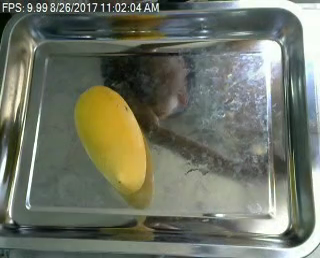Mango: (71, 84, 158, 198)
